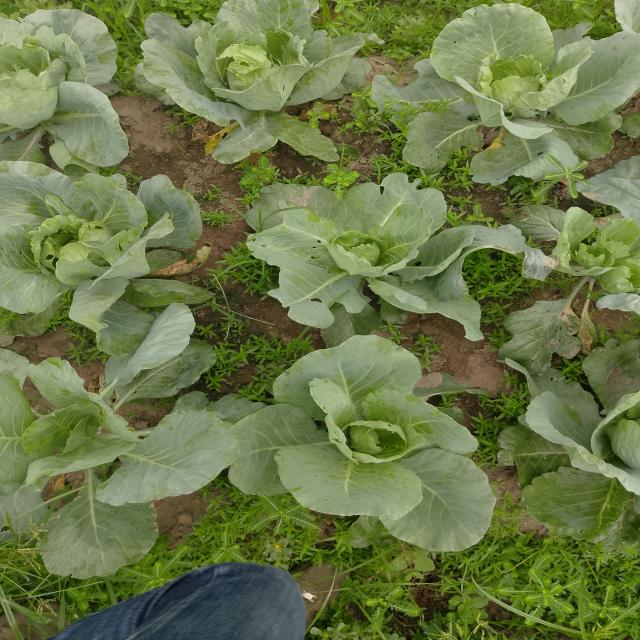Cabbage: (219, 320, 508, 547), (6, 312, 246, 574), (408, 3, 640, 209), (210, 174, 494, 337), (127, 2, 400, 162), (0, 142, 221, 314), (502, 318, 640, 543), (0, 0, 133, 158)
